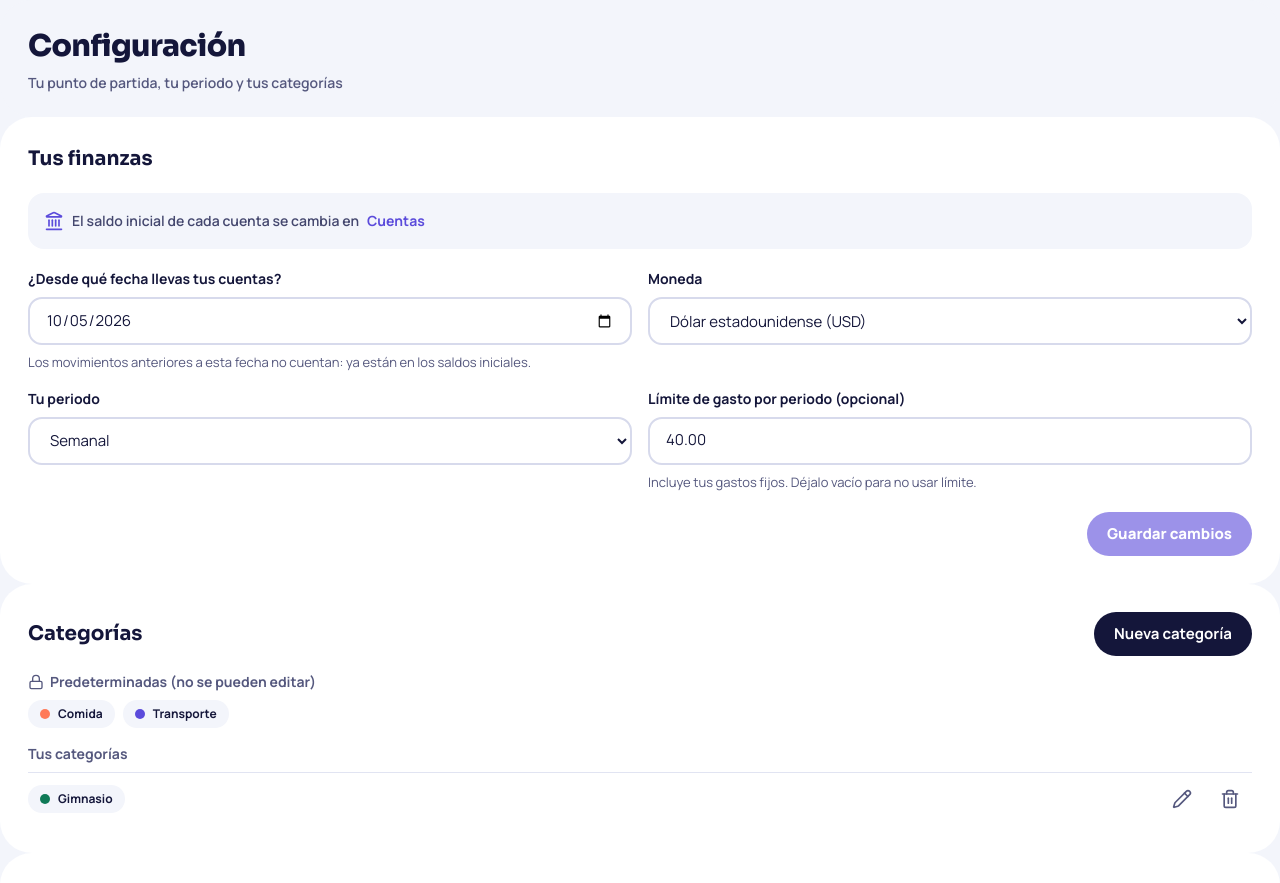
Test: SettingsPage › saves changes and updates the session
Expected: the button "Guardar cambios" is disabled, [1087,512,1252,556]
Replace the text in the field labelled "Límite de gasto por periodo (opcional)" with "50" at [950, 440], box [648,416,1252,464]
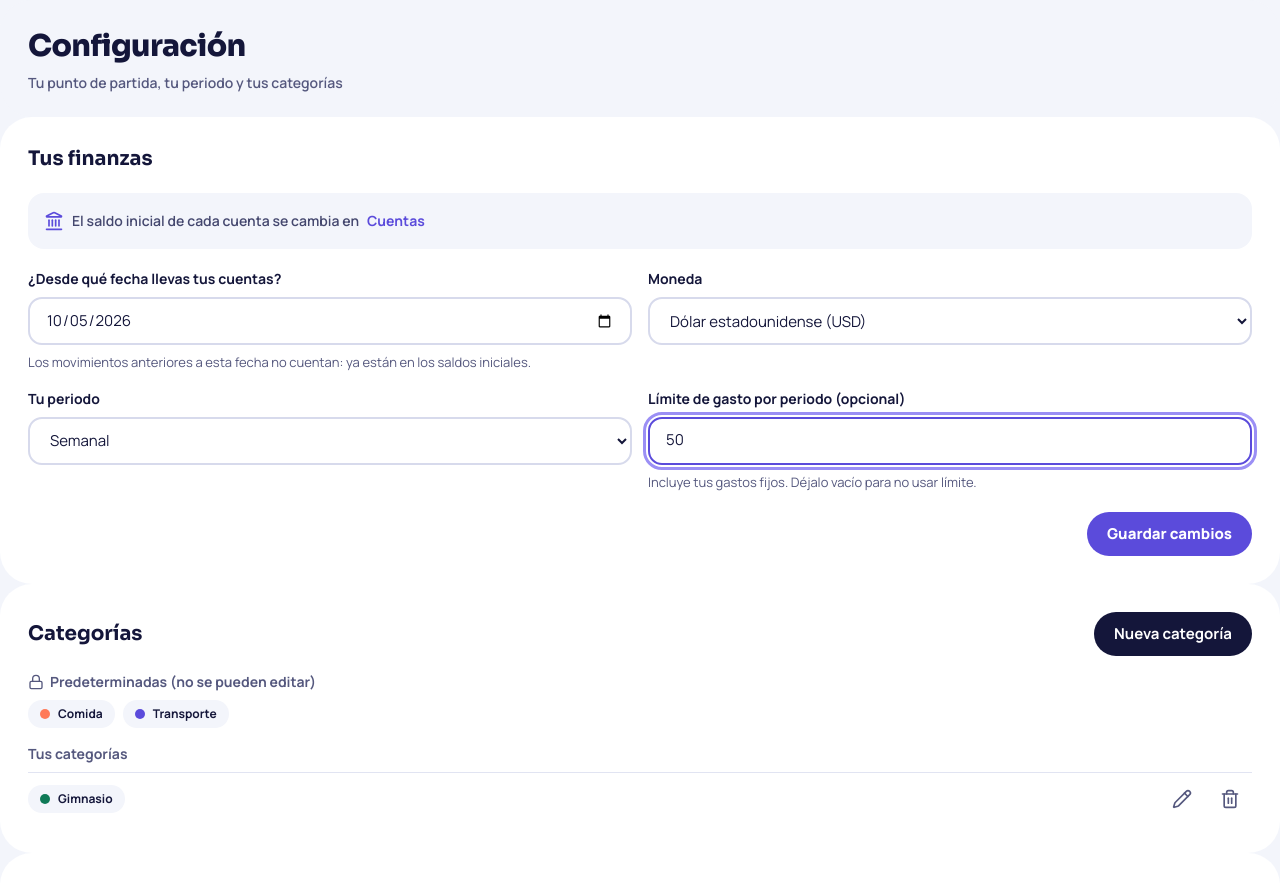
Click the button "Guardar cambios" at [1170, 534], box [1087,512,1252,556]
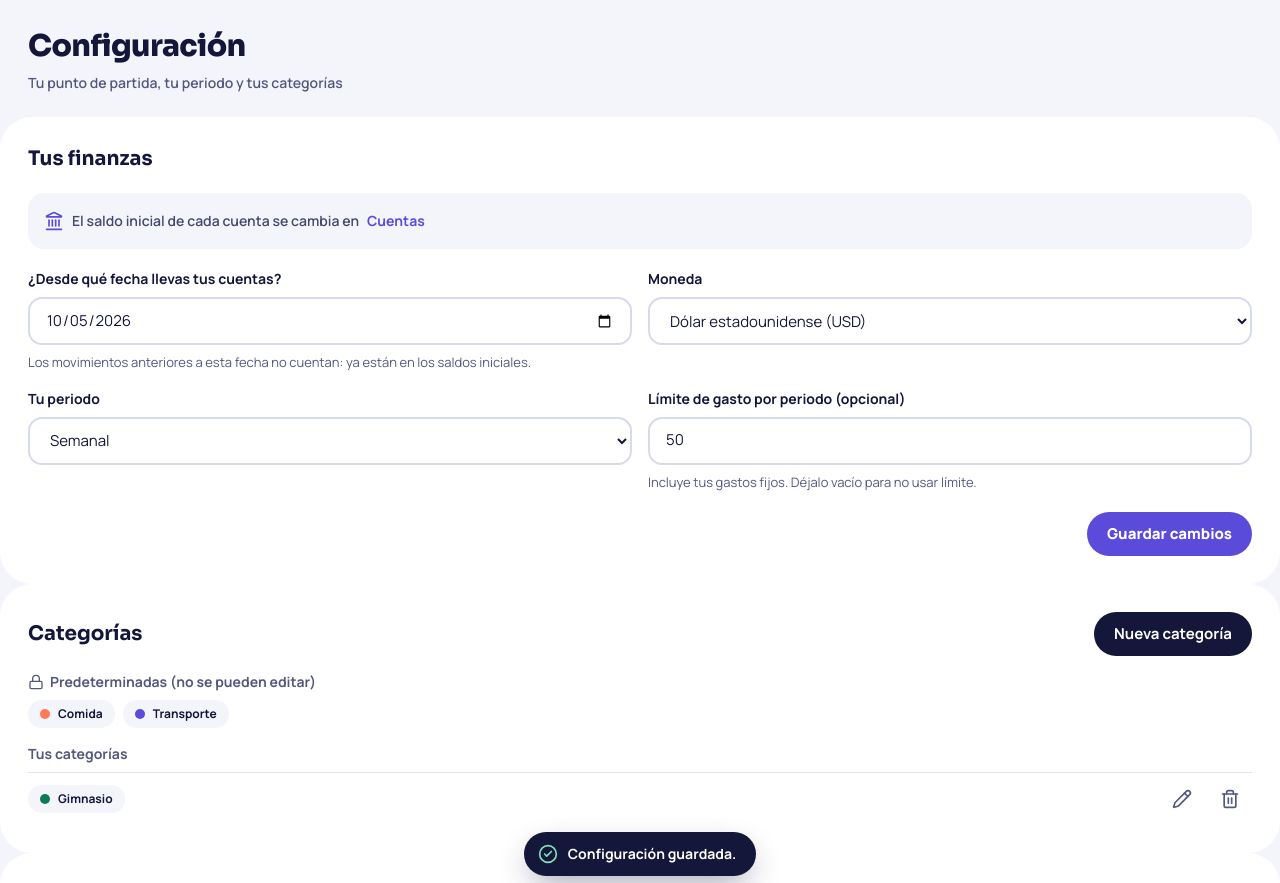
Now the text "Configuración guardada." is shown, box [524,832,756,876]
